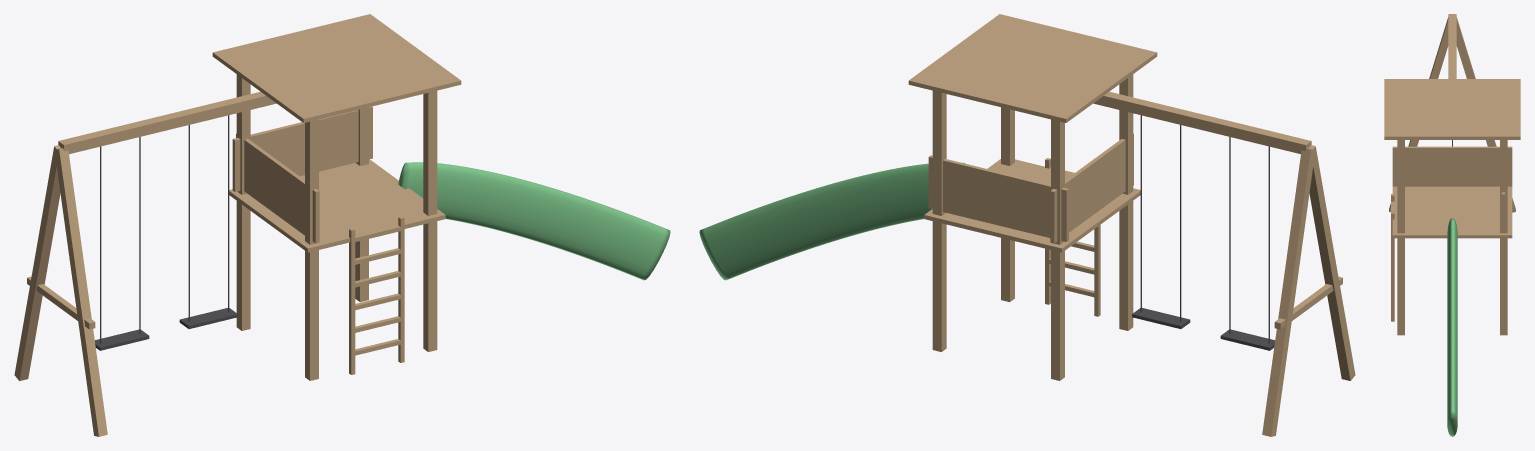
Rendered from playset.glb.
3 renders of one model, left to right at view 1: azimuth 30°, elevation 25°; view 2: azimuth 150°, elevation 25°; view 3: azimuth 270°, elevation 25°, orthographic. The views are drawn at different scales.
Parts seen in each view (by area): view 1: tower, slide, aframe, swings; view 2: tower, slide, aframe, swings; view 3: tower, slide, aframe.
Part boxes in pixels (x1,y1,x2,y2): tower: (212, 14, 461, 380); slide: (398, 162, 670, 280); aframe: (14, 91, 276, 436); swings: (95, 115, 237, 350); tower: (908, 14, 1157, 380); slide: (699, 162, 964, 280); aframe: (1093, 91, 1355, 436); swings: (1132, 115, 1274, 350); tower: (1384, 79, 1520, 335); slide: (1447, 218, 1457, 436); aframe: (1389, 14, 1515, 212).
Bounding box in the file's own units: 6.23 × 2.8 × 1.6.
